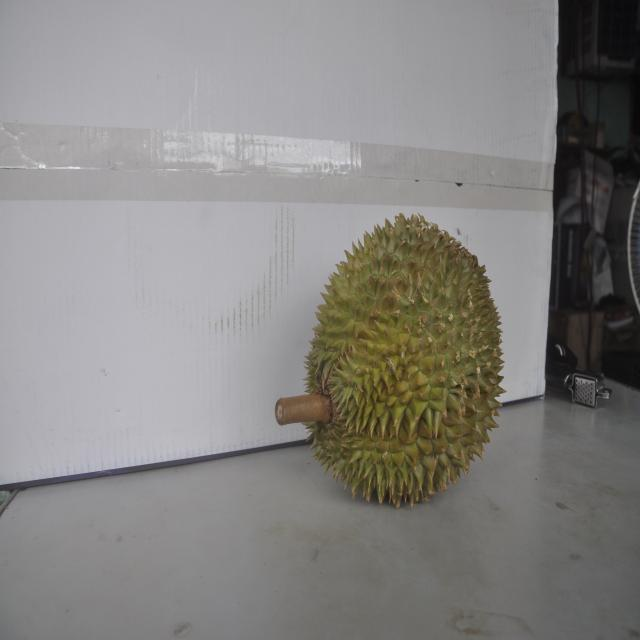mature: (307, 211, 504, 506)
